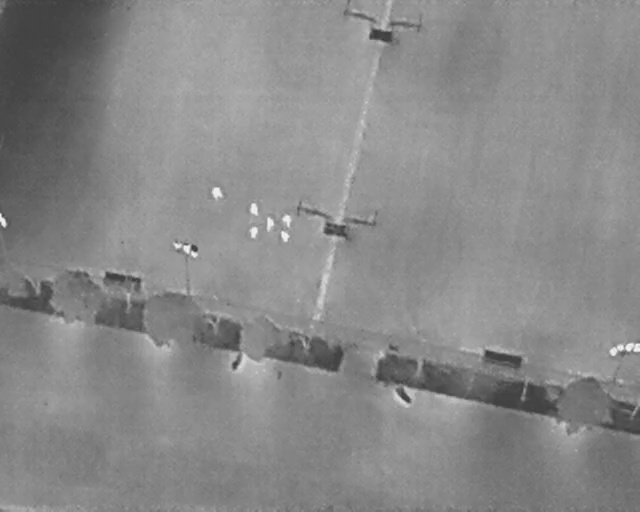Person: (212, 186, 223, 202), (265, 217, 275, 233), (282, 214, 292, 229), (249, 203, 259, 216), (249, 226, 258, 239), (280, 231, 290, 242)
